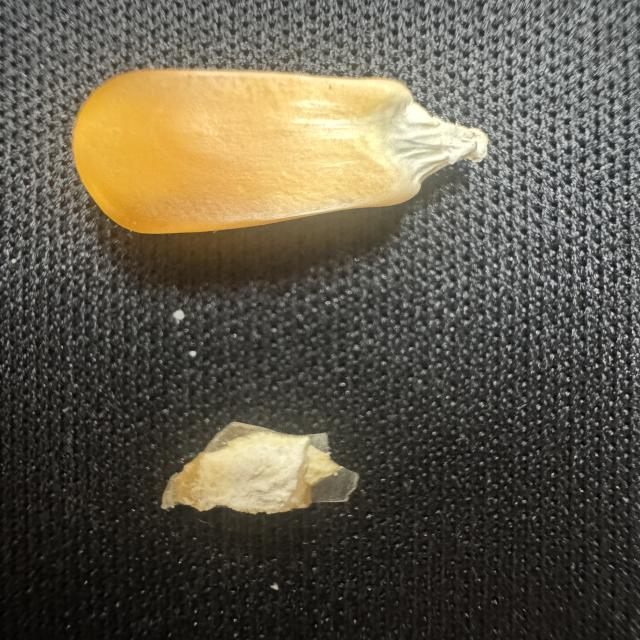Bad-Seed: (144, 414, 368, 542)
Good-Seed: (58, 61, 506, 239)
